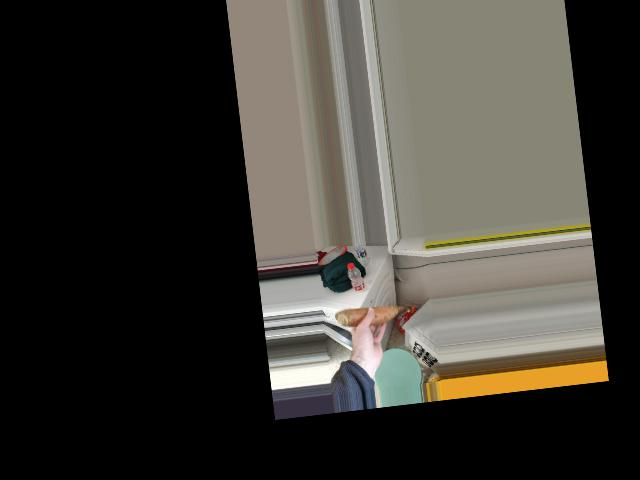sweet_potato: (341, 303, 402, 328)
